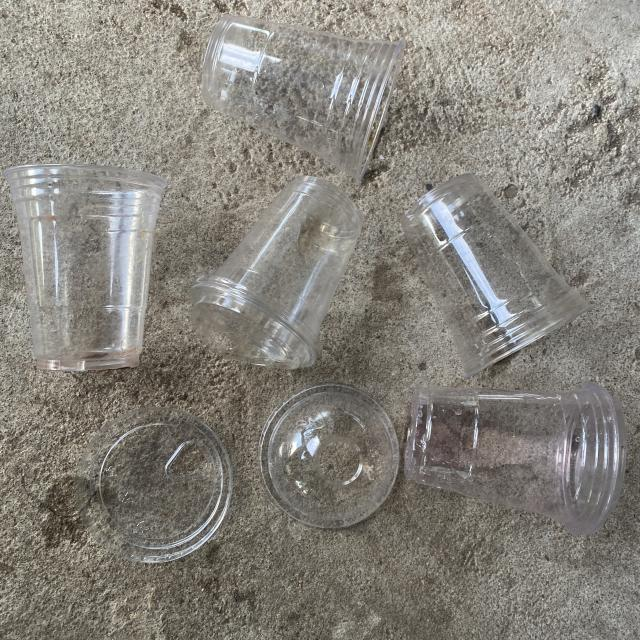plastik: (401, 174, 592, 376), (201, 15, 404, 182), (405, 382, 626, 535), (4, 165, 168, 371), (189, 176, 362, 369), (76, 408, 232, 562), (259, 384, 399, 529)
